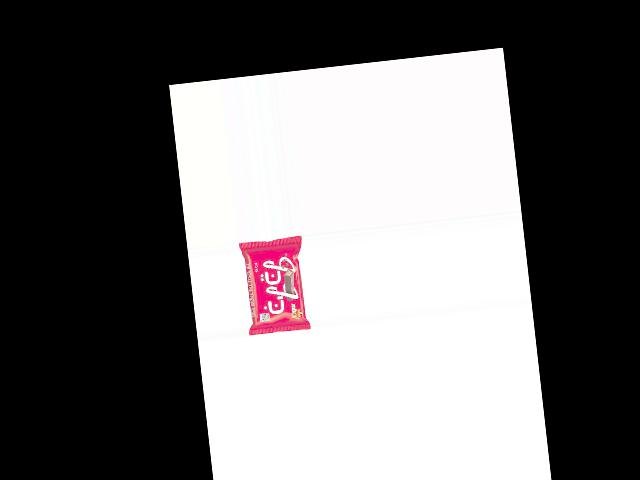chocolate: (237, 236, 311, 335)
